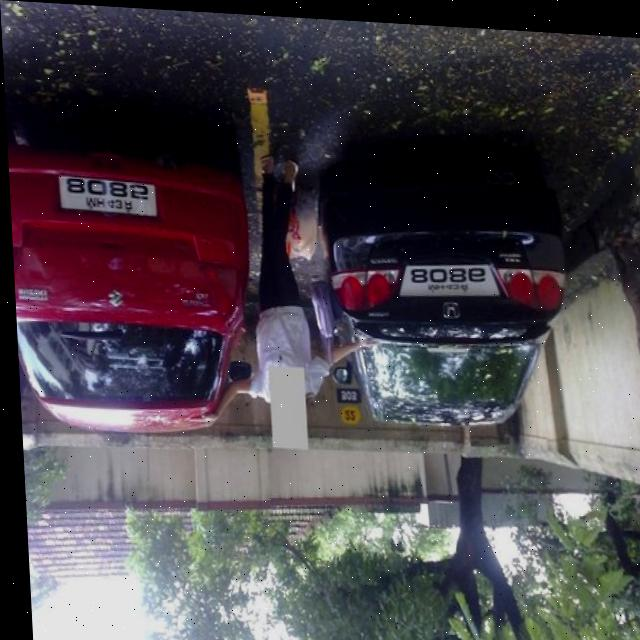plate: (398, 248, 506, 303), (52, 169, 158, 218)
